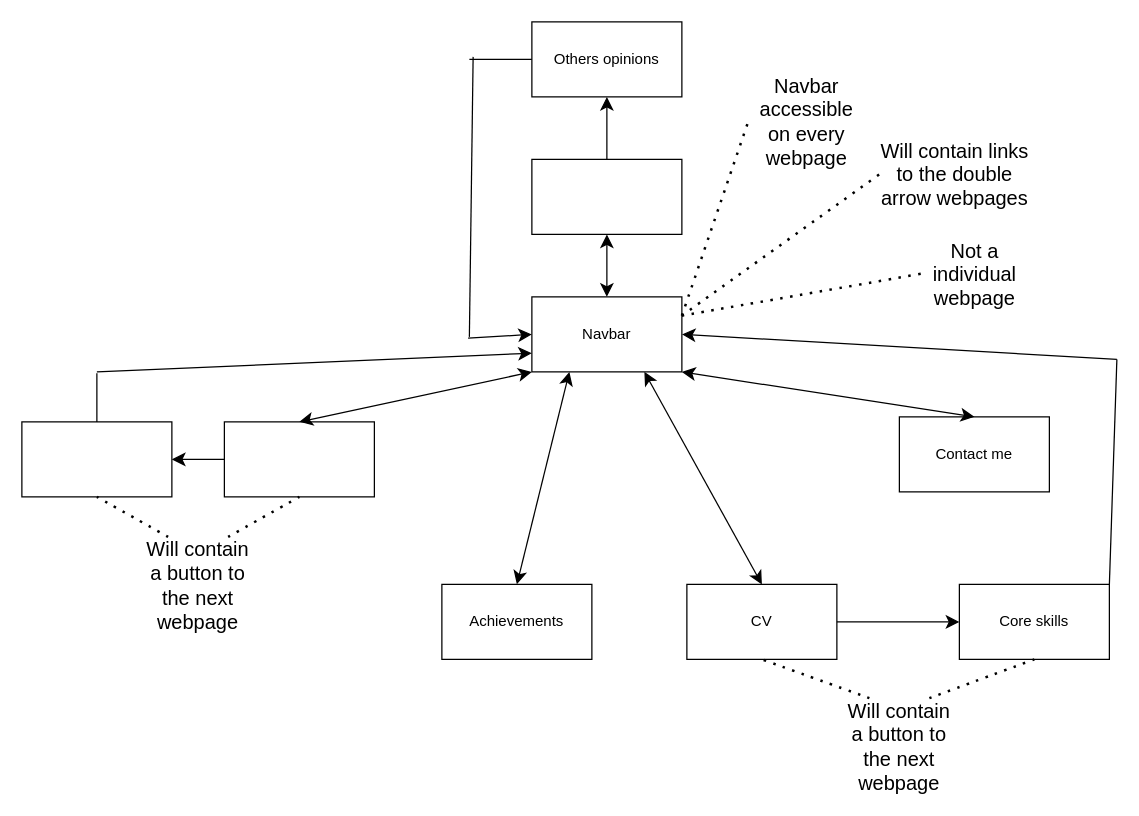
This 1139x816 diagram has some shape labels left out. The box of each missing label's shape, as (x1, y1, x2, y2) in pixels:
Home page: (531, 158, 682, 234)
Other things I have done: (21, 421, 172, 497)
Projects: (223, 421, 374, 497)
